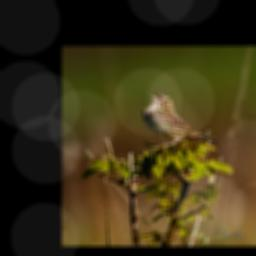Sparrow: (141, 90, 220, 148)
